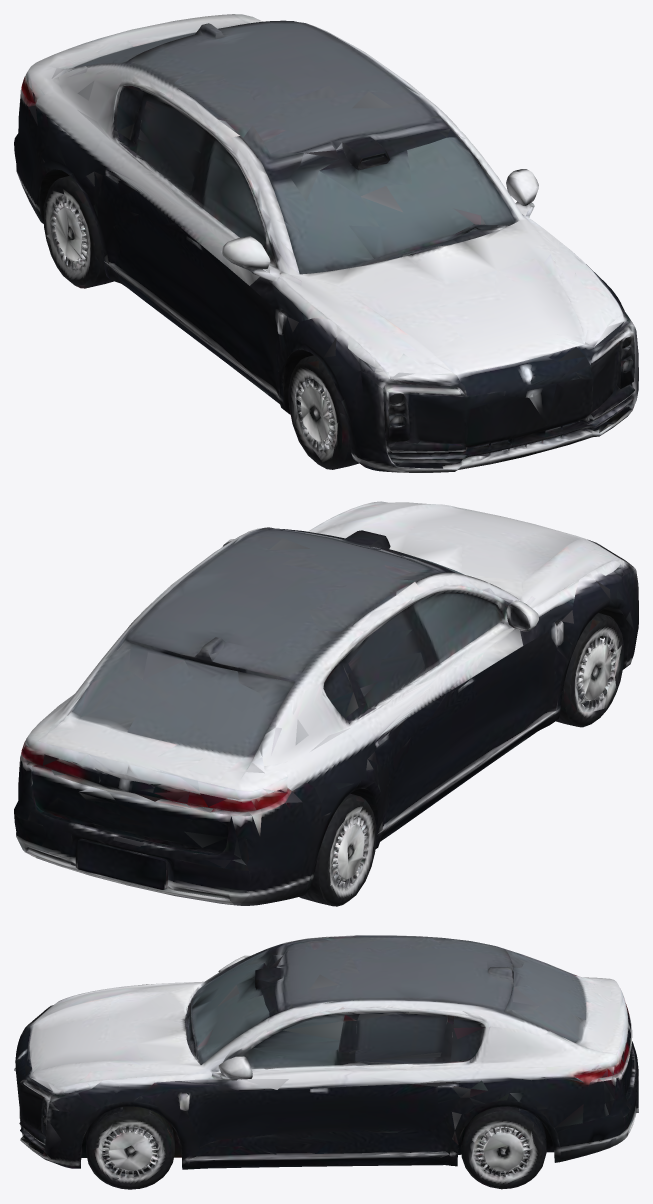
The model's file is maextro-s800-rival.glb.
3 renders of one model, top to bottom at view 1: azimuth 30°, elevation 25°; view 2: azimuth 150°, elevation 25°; view 3: azimuth 270°, elevation 25°, orthographic. The views are drawn at different scales.
Parts seen in each view (by area): view 1: maextro-s800; view 2: maextro-s800; view 3: maextro-s800.
Part boxes in pixels (x1,y1,x2,y2): maextro-s800: (14,14,638,472); maextro-s800: (14,501,638,906); maextro-s800: (14,935,638,1189).
Size of the model in its own units: 2.4 by 1.69 by 5.48.
Materials: 1 (1 with a texture image).
